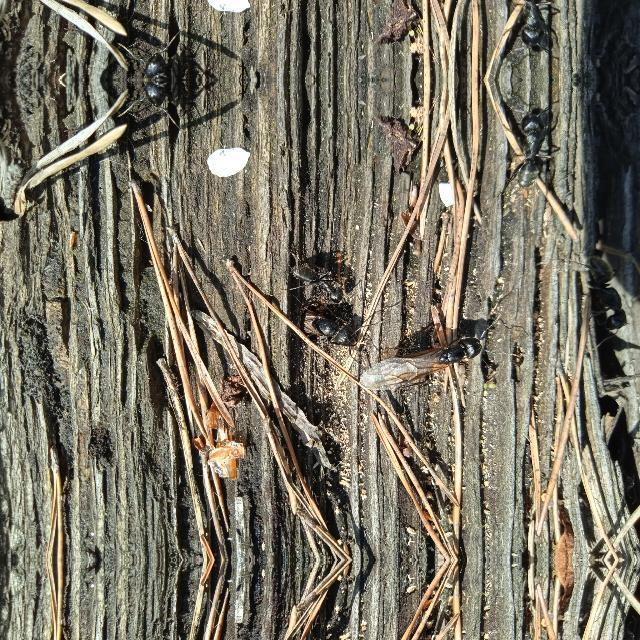Camponotus: (360, 328, 500, 398), (257, 304, 373, 352), (504, 99, 552, 197), (294, 255, 362, 312), (122, 80, 194, 126), (122, 34, 194, 80), (503, 0, 550, 60)
